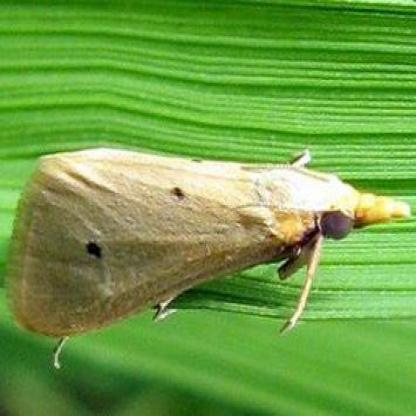stem-borer: (0, 142, 416, 346)
